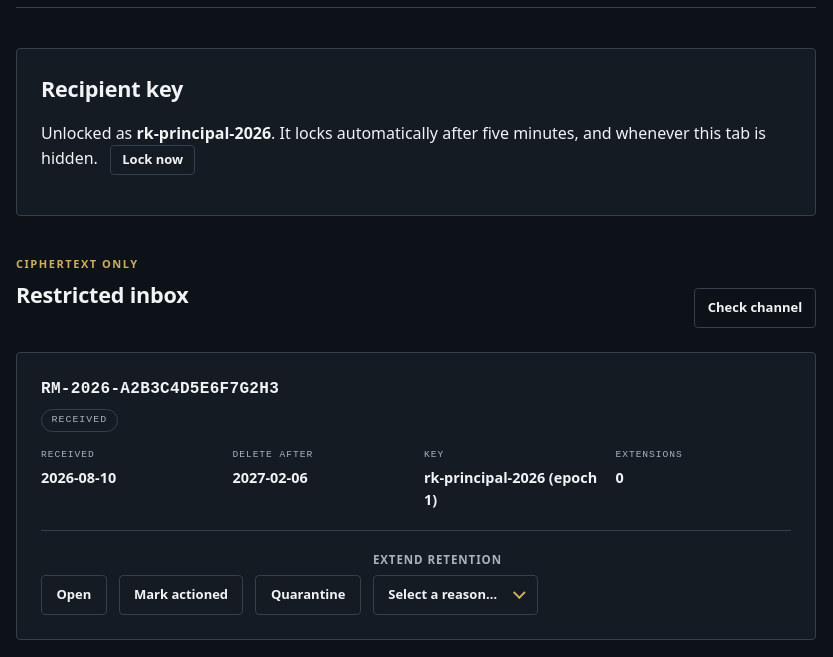
Test: RoomWorkspace › clears the plaintext when the reader closes it
(page scrolled)
Expected: the heading "RM-2026-A2B3C4D5E6F7G2H3" is shown, [41, 380, 279, 398]
Click the button "Open".
click(74, 595)  # box [41, 575, 107, 615]
(page scrolled)
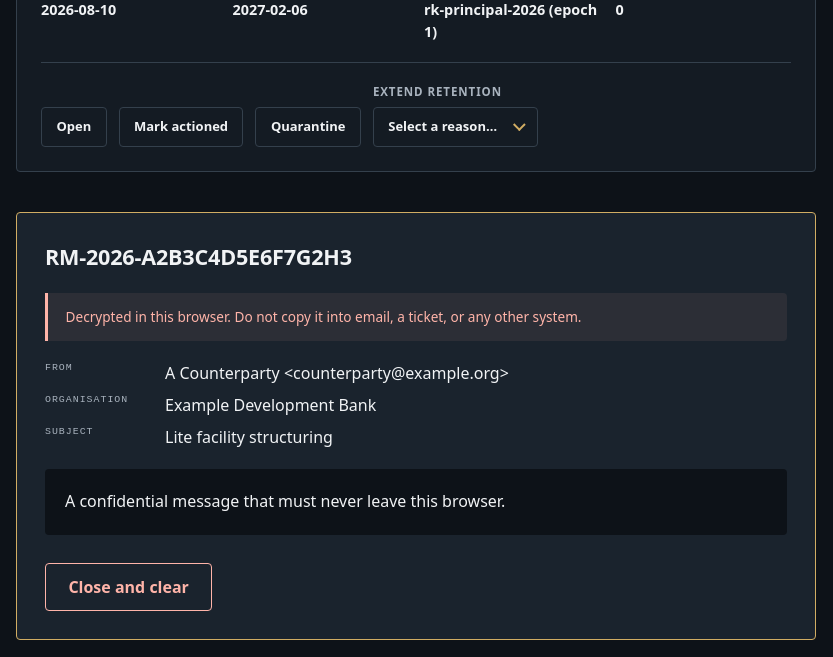
Result: the text "A confidential message that must never leave this browser." is shown at [45, 469, 787, 534]
Click the button "Close and clear".
click(129, 587)  # box [45, 562, 212, 611]
(page scrolled)
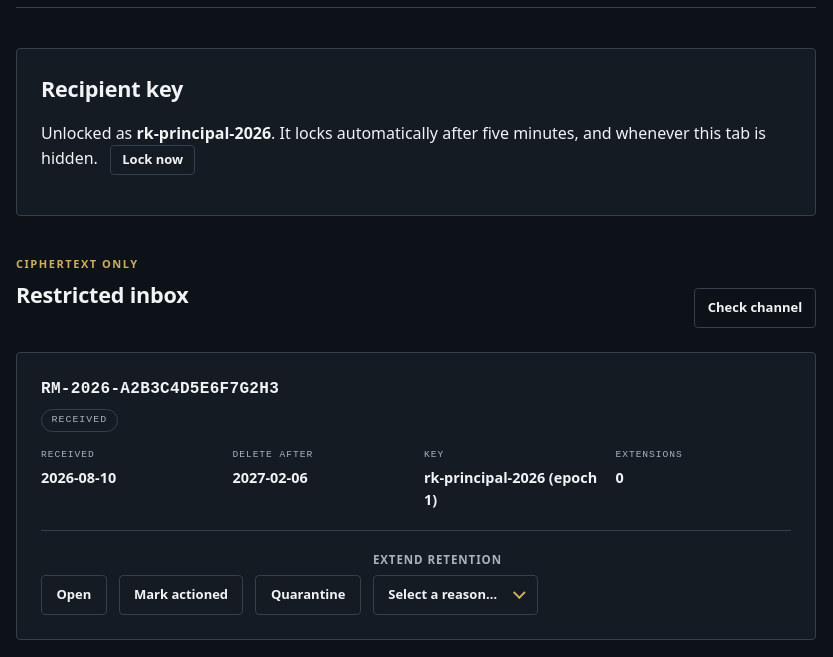
Result: the text "A confidential message that must never leave this browser." is gone
